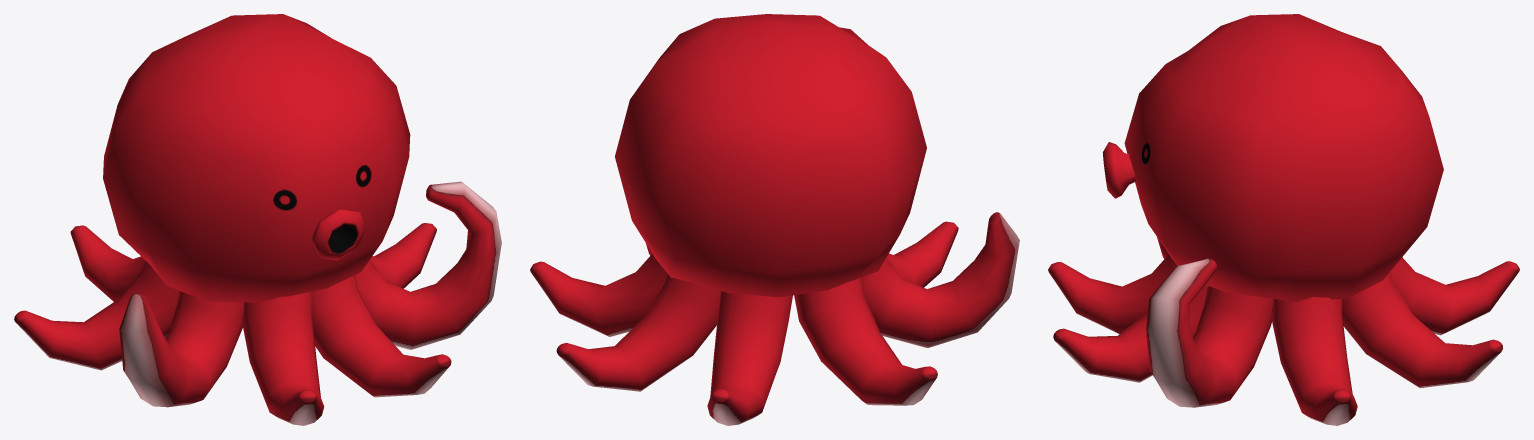
The model's file is 02Enemy.fbx.
3 renders of one model, left to right at view 1: azimuth 30°, elevation 25°; view 2: azimuth 150°, elevation 25°; view 3: azimuth 270°, elevation 25°, orthographic.
Visible parts, largest first — view 1: pCube4; view 2: pCube4; view 3: pCube4.
Part boxes in pixels (x1,y1,x2,y2): pCube4: (14,14,501,425); pCube4: (530,14,1019,425); pCube4: (1048,14,1519,425).
Size of the model in its own units: 37.14 by 28.11 by 36.93.
1 material, 1 textured.
